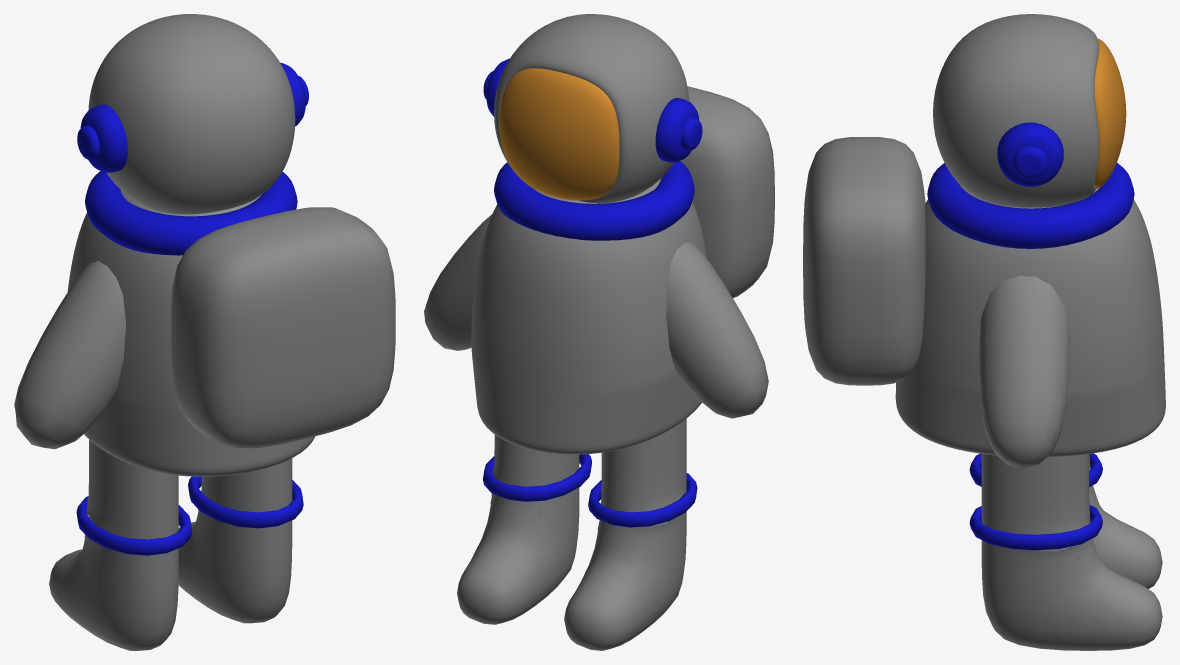
Rendered from Astronaut.obj.
3 views of the same model, side by side, from view 1: azimuth 30°, elevation 25°; view 2: azimuth 150°, elevation 25°; view 3: azimuth 270°, elevation 25° (orthographic). The views are drawn at different scales.
Visible parts, largest first — view 1: Cube.009, Cube, Cube.004, Cube.002, Cube.005, Torus, Cube.008, Cylinder, Cylinder.001; view 2: Cube.002, Cube.004, Cube.005, Cube, Cube.009, Cube.001, Torus, Cube.008, Cylinder, Cylinder.001; view 3: Cube.002, Cube.009, Cube.004, Cube, Cube.005, Torus, Cube.001, Cube.008, Cylinder, Cylinder.001.
Part boxes in pixels (x1=…): Cube.009: x1=170, y1=207, x2=395, y2=448; Cube: x1=88, y1=14, x2=295, y2=214; Cube.004: x1=49, y1=439, x2=292, y2=650; Cube.002: x1=67, y1=189, x2=315, y2=476; Cube.005: x1=14, y1=261, x2=125, y2=449; Torus: x1=85, y1=171, x2=297, y2=255; Cube.008: x1=76, y1=476, x2=303, y2=555; Cylinder: x1=80, y1=62, x2=305, y2=172; Cylinder.001: x1=77, y1=76, x2=308, y2=160; Cube.002: x1=471, y1=179, x2=707, y2=454; Cube.004: x1=457, y1=418, x2=686, y2=650; Cube.005: x1=424, y1=214, x2=768, y2=418; Cube: x1=494, y1=14, x2=689, y2=203; Cube.009: x1=680, y1=86, x2=774, y2=297; Cube.001: x1=499, y1=68, x2=619, y2=200; Torus: x1=494, y1=161, x2=694, y2=240; Cube.008: x1=483, y1=454, x2=697, y2=527; Cylinder: x1=486, y1=58, x2=699, y2=162; Cylinder.001: x1=483, y1=71, x2=702, y2=150; Cube.002: x1=895, y1=185, x2=1165, y2=457; Cube.009: x1=803, y1=137, x2=925, y2=385; Cube.004: x1=981, y1=454, x2=1162, y2=650; Cube: x1=933, y1=14, x2=1098, y2=207; Cube.005: x1=979, y1=275, x2=1070, y2=468; Torus: x1=927, y1=163, x2=1134, y2=248; Cube.001: x1=1094, y1=38, x2=1126, y2=188; Cube.008: x1=969, y1=453, x2=1102, y2=550; Cylinder: x1=997, y1=122, x2=1063, y2=186; Cylinder.001: x1=1013, y1=146, x2=1047, y2=178.
Bounding box in the file's own units: 2.9 × 4.79 × 2.65.
